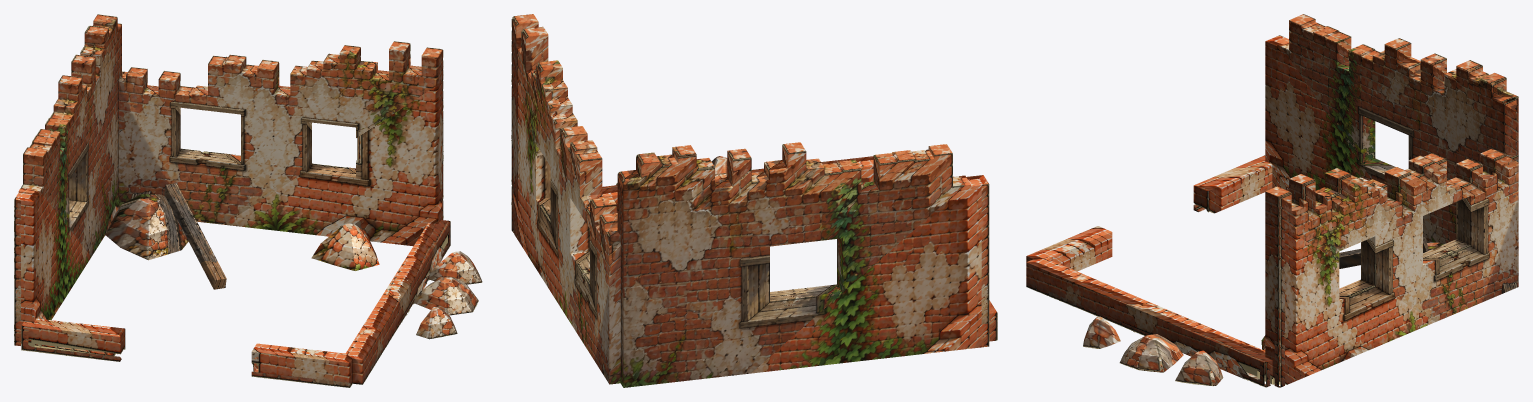
File: ruin_cut.glb
3 renders of one model, left to right at view 1: azimuth 30°, elevation 25°; view 2: azimuth 150°, elevation 25°; view 3: azimuth 270°, elevation 25°, orthographic. The views are drawn at different scales.
Parts seen in each view (by area): view 1: ruin_cut_game; view 2: ruin_cut_game; view 3: ruin_cut_game.
Boxes of the visible parts, x1=… form: ruin_cut_game: x1=14, y1=14, x2=482, y2=387; ruin_cut_game: x1=511, y1=14, x2=997, y2=387; ruin_cut_game: x1=1026, y1=14, x2=1518, y2=387.
Bounding box in the file's own units: 7.21 × 3.25 × 7.21.
1 material, 1 textured.
